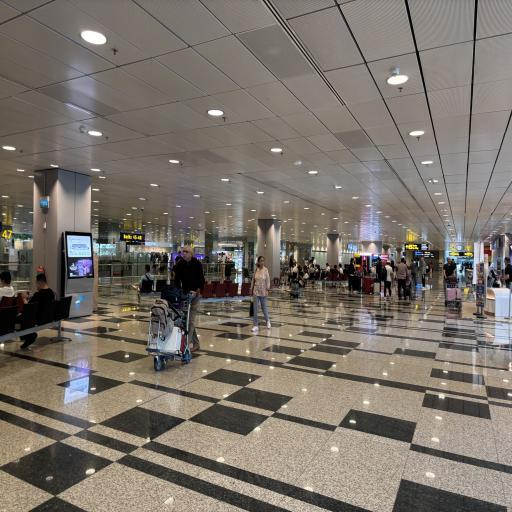person_with_luggage_left: (148, 245, 205, 371)
